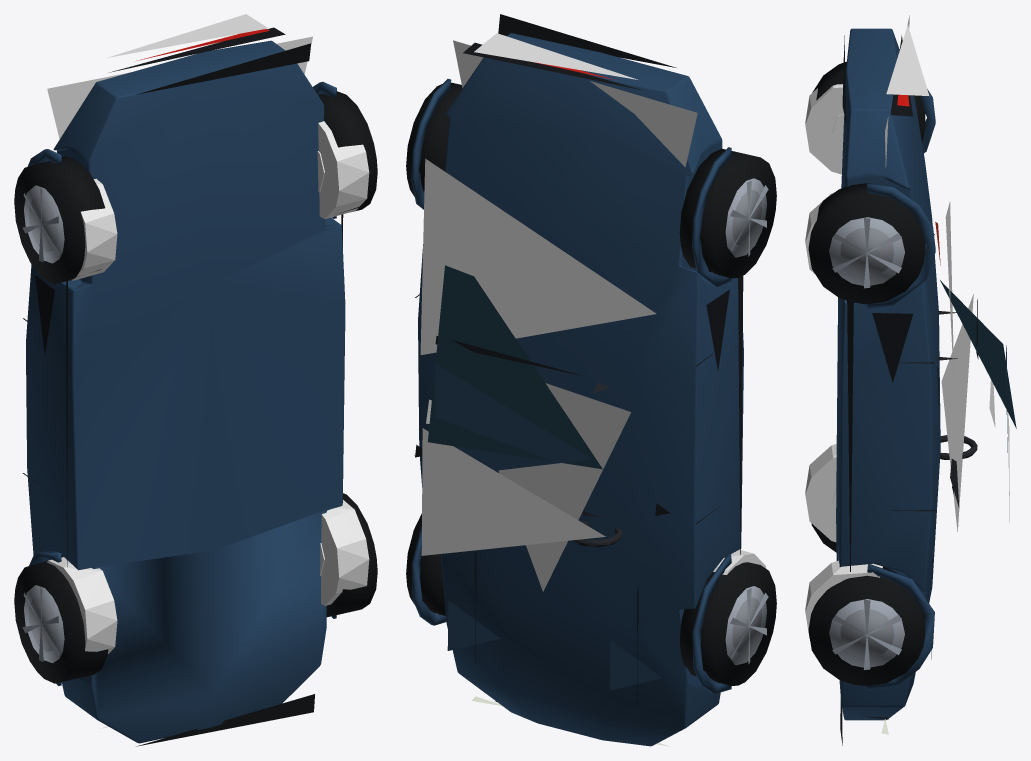
File: MarshNsx_LOD1.fbx
3 renders of one model, left to right at view 1: azimuth 30°, elevation 25°; view 2: azimuth 150°, elevation 25°; view 3: azimuth 270°, elevation 25°, orthographic. The views are drawn at different scales.
Parts seen in each view (by area): view 1: Marsh_BODY_SHELL, Marsh_TIRE.001, Marsh_TIRE, marsh_nsx91_Wheel.002, marsh_nsx91_Wheel.003, marsh_nsx91_Wheel, Marsh_TIRE.003, marsh_nsx91_Wheel.001, marsh_nsx91_Body, Marsh_TIRE.002, Marsh_FRONT_SPLITTER, Marsh_REAR_DIFFUSER (+7 smaller); view 2: Marsh_BODY_SHELL, marsh_nsx91_Hood, Marsh_GLASSHOUSE, marsh_nsx91_Windshield, marsh_nsx91_Cabin, Marsh_TIRE.001, Marsh_ROOF_PANEL, Marsh_TIRE, marsh_nsx91_Body, Marsh_TIRE.003, marsh_nsx91_Grille, Marsh_TIRE.002 (+14 smaller); view 3: Marsh_BODY_SHELL, Marsh_TIRE.003, Marsh_TIRE.002, marsh_nsx91_Cabin, marsh_nsx91_Wheel.001, Marsh_GLASSHOUSE, marsh_nsx91_Wheel, Marsh_BRAKE.003, Marsh_BRAKE.002, Marsh_RIM.003, Marsh_RIM.002, Marsh_WHEEL_ARCH.003 (+9 smaller).
Part boxes in pixels (x1=…): Marsh_BODY_SHELL: x1=26, y1=40, x2=345, y2=743; Marsh_TIRE.001: x1=14, y1=156, x2=105, y2=283; Marsh_TIRE: x1=14, y1=556, x2=108, y2=683; marsh_nsx91_Wheel.002: x1=321, y1=500, x2=369, y2=605; marsh_nsx91_Wheel.003: x1=318, y1=121, x2=369, y2=219; marsh_nsx91_Wheel: x1=47, y1=557, x2=117, y2=653; Marsh_TIRE.003: x1=318, y1=91, x2=377, y2=213; marsh_nsx91_Wheel.001: x1=71, y1=178, x2=117, y2=280; marsh_nsx91_Body: x1=47, y1=36, x2=312, y2=138; Marsh_TIRE.002: x1=326, y1=493, x2=377, y2=617; Marsh_FRONT_SPLITTER: x1=136, y1=694, x2=314, y2=746; Marsh_REAR_DIFFUSER: x1=136, y1=43, x2=311, y2=94; Marsh_BODY_SHELL: x1=418, y1=33, x2=743, y2=746; marsh_nsx91_Hood: x1=420, y1=158, x2=656, y2=354; Marsh_GLASSHOUSE: x1=428, y1=265, x2=602, y2=469; marsh_nsx91_Windshield: x1=421, y1=428, x2=605, y2=555; marsh_nsx91_Cabin: x1=498, y1=383, x2=630, y2=591; Marsh_TIRE.001: x1=679, y1=148, x2=776, y2=278; Marsh_ROOF_PANEL: x1=435, y1=364, x2=591, y2=470; Marsh_TIRE: x1=679, y1=562, x2=776, y2=685; marsh_nsx91_Body: x1=453, y1=40, x2=697, y2=167; Marsh_TIRE.003: x1=406, y1=82, x2=462, y2=196; marsh_nsx91_Grille: x1=474, y1=33, x2=637, y2=79; Marsh_TIRE.002: x1=406, y1=513, x2=445, y2=615; Marsh_BODY_SHELL: x1=836, y1=28, x2=940, y2=720; Marsh_TIRE.003: x1=808, y1=183, x2=925, y2=304; Marsh_TIRE.002: x1=808, y1=567, x2=925, y2=686; marsh_nsx91_Cabin: x1=941, y1=294, x2=973, y2=531; marsh_nsx91_Wheel.001: x1=805, y1=84, x2=843, y2=174; Marsh_GLASSHOUSE: x1=940, y1=280, x2=1016, y2=428; marsh_nsx91_Wheel: x1=805, y1=444, x2=836, y2=542; Marsh_BRAKE.003: x1=840, y1=227, x2=894, y2=276; Marsh_BRAKE.002: x1=840, y1=609, x2=894, y2=658; Marsh_RIM.003: x1=829, y1=217, x2=904, y2=285; Marsh_RIM.002: x1=829, y1=599, x2=904, y2=667; Marsh_WHEEL_ARCH.003: x1=867, y1=183, x2=935, y2=308.
Size of the model in its own units: 227 by 469 by 140.
